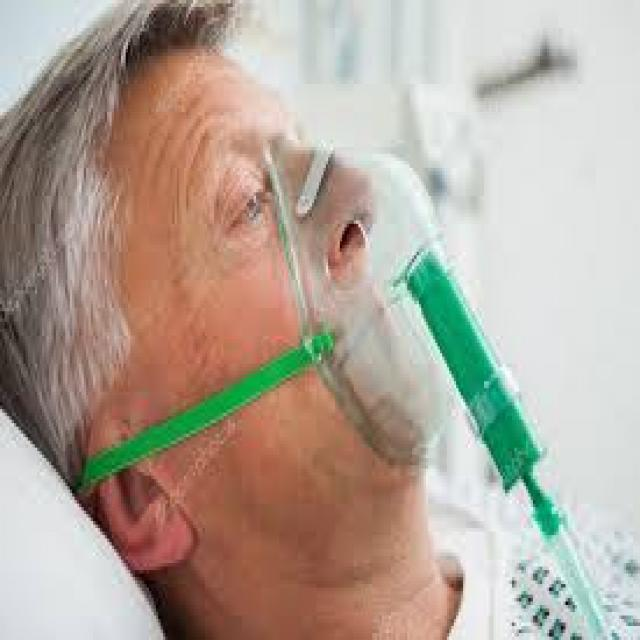oxygen_mask: (293, 117, 549, 565)
